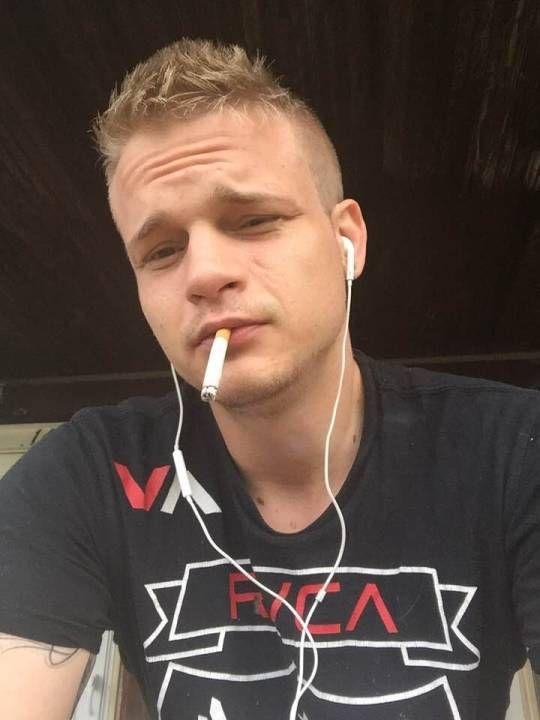cigarette: (201, 327, 232, 403)
